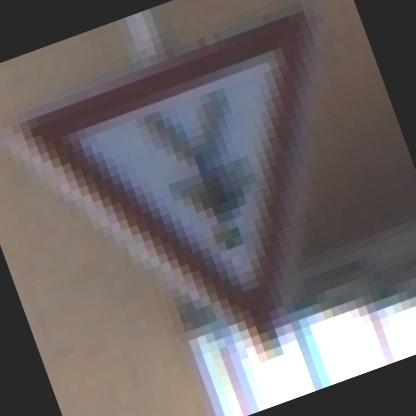crosswalk: (10, 0, 415, 396)
